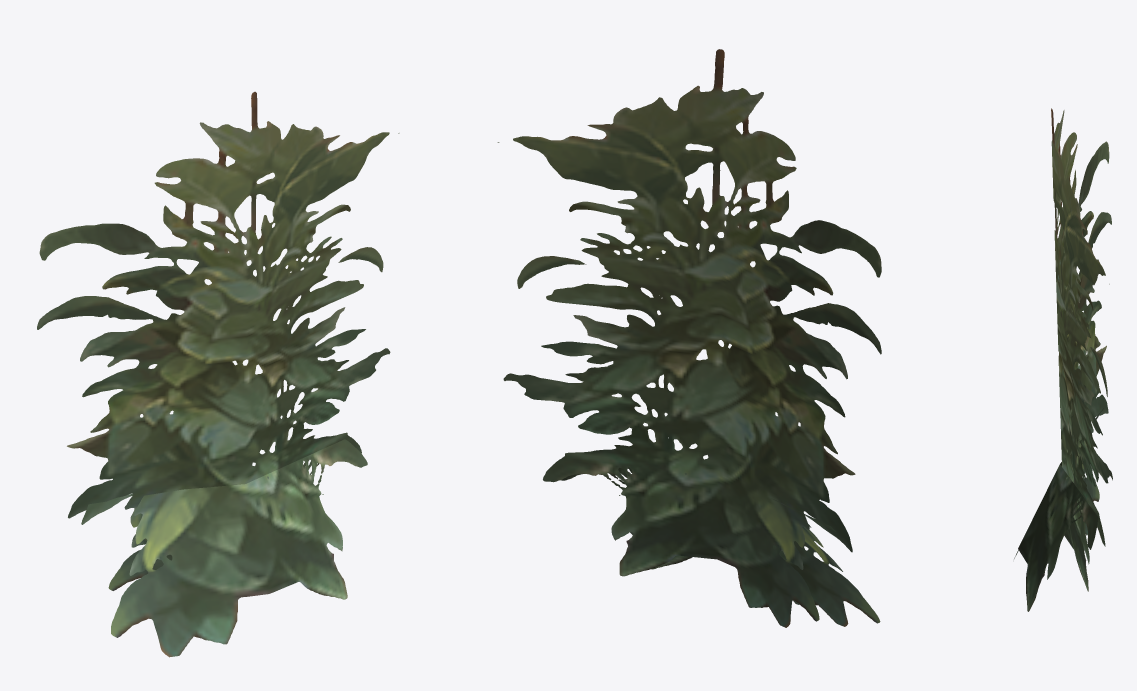
The model's file is Jiubajie_hua12_fbx.FBX.
3 views of the same model, side by side, from view 1: azimuth 30°, elevation 25°; view 2: azimuth 150°, elevation 25°; view 3: azimuth 270°, elevation 25° (orthographic). The views are drawn at different scales.
Visible parts, largest first — view 1: Jiubajie_hua12_fbx; view 2: Jiubajie_hua12_fbx; view 3: Jiubajie_hua12_fbx.
Boxes of the visible parts, bbox=[...] form: Jiubajie_hua12_fbx: bbox=[37, 91, 399, 657]; Jiubajie_hua12_fbx: bbox=[497, 49, 881, 627]; Jiubajie_hua12_fbx: bbox=[1014, 108, 1112, 611].
Bounding box in the file's own units: 0.9517 × 1.12 × 0.256.
